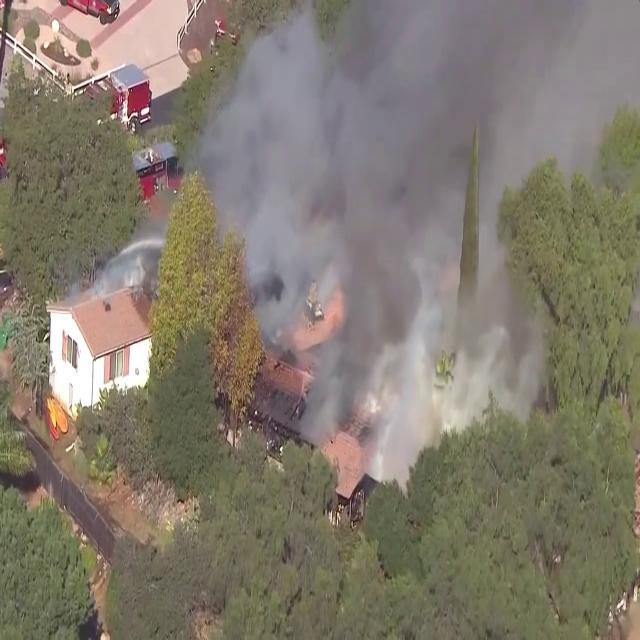Smoke: (186, 0, 552, 437)
